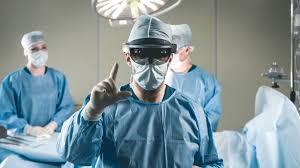hololens: (121, 41, 178, 63)
